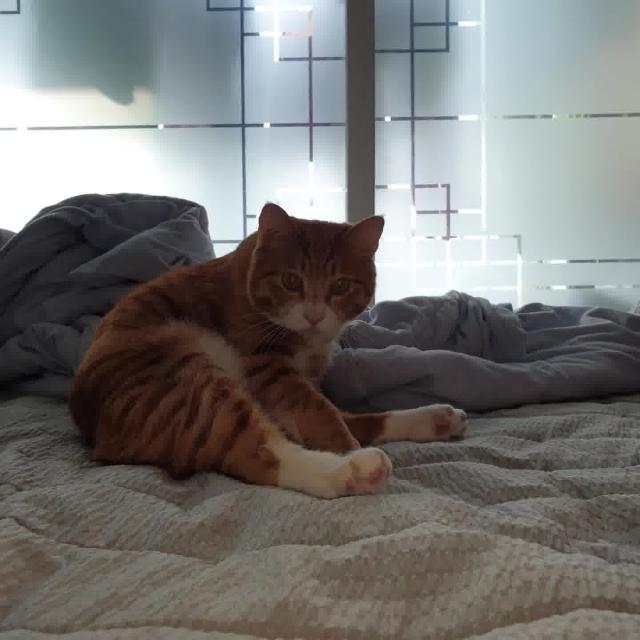cat: (63, 198, 481, 502)
